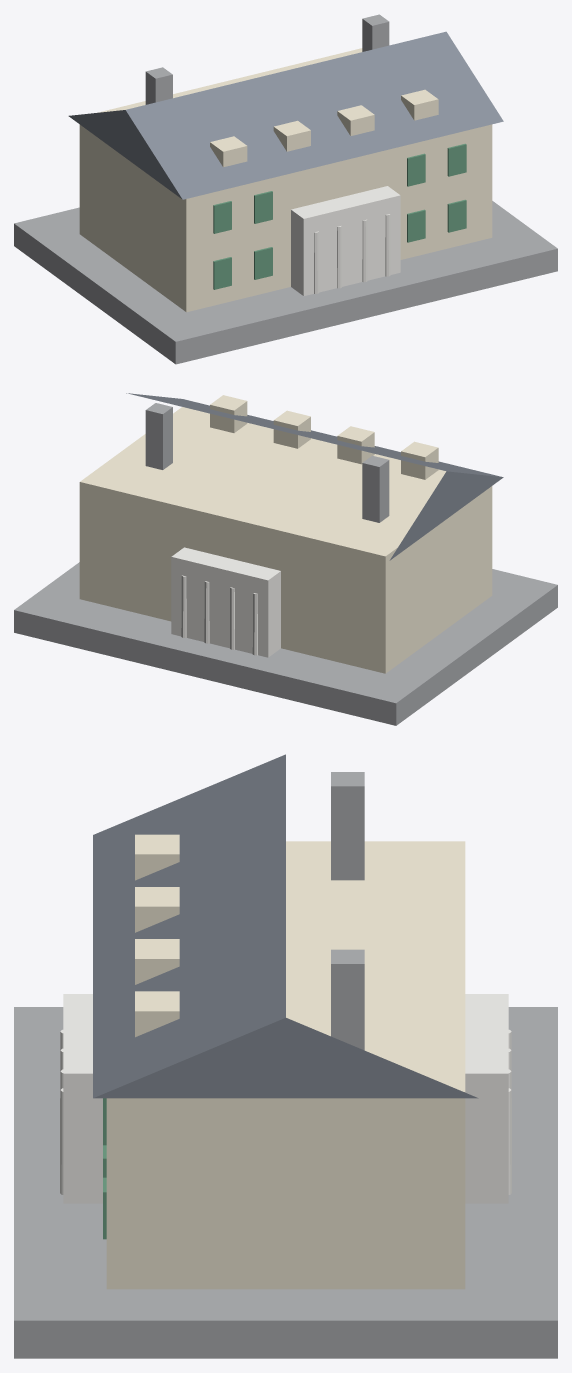
The model's file is lm_119_biet_thu_phap_co_nguyen_du_quang_trung_mansard_slate_heritage.glb.
3 renders of one model, top to bottom at view 1: azimuth 30°, elevation 25°; view 2: azimuth 150°, elevation 25°; view 3: azimuth 270°, elevation 25°, orthographic. The views are drawn at different scales.
Visible parts, largest first — view 1: lm_119_biet_thu_phap_co_nguyen_du_quang_trung_mansard_slate_; view 2: lm_119_biet_thu_phap_co_nguyen_du_quang_trung_mansard_slate_; view 3: lm_119_biet_thu_phap_co_nguyen_du_quang_trung_mansard_slate_.
Boxes of the visible parts, box(x1,y1,x2,y2) form: lm_119_biet_thu_phap_co_nguyen_du_quang_trung_mansard_slate_: box(14, 14, 557, 364); lm_119_biet_thu_phap_co_nguyen_du_quang_trung_mansard_slate_: box(14, 393, 557, 725); lm_119_biet_thu_phap_co_nguyen_du_quang_trung_mansard_slate_: box(14, 754, 557, 1358).
Size of the model in its own units: 30 by 14.9 by 22.
